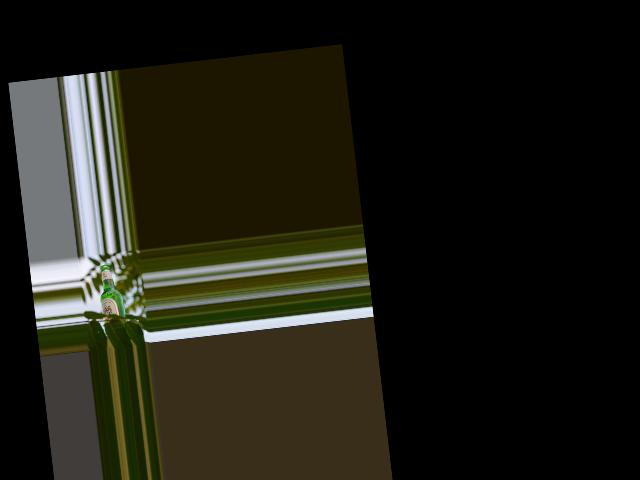beer: (96, 263, 125, 324)
